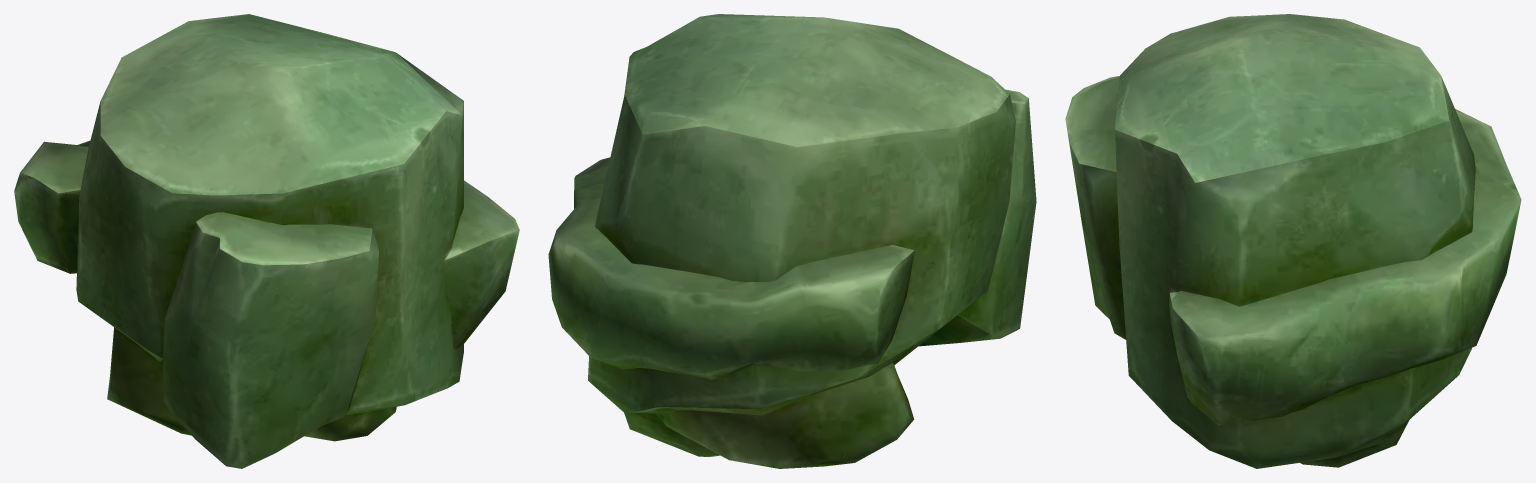
3 views of the same model, side by side, from view 1: azimuth 30°, elevation 25°; view 2: azimuth 150°, elevation 25°; view 3: azimuth 270°, elevation 25° (orthographic). The views are drawn at different scales.
Visible parts, largest first — view 1: SM_Adamantite_Ore_Small_01_LOD0; view 2: SM_Adamantite_Ore_Small_01_LOD0; view 3: SM_Adamantite_Ore_Small_01_LOD0.
Boxes of the visible parts, <box> form: SM_Adamantite_Ore_Small_01_LOD0: <box>14,14,519,468</box>; SM_Adamantite_Ore_Small_01_LOD0: <box>548,14,1036,468</box>; SM_Adamantite_Ore_Small_01_LOD0: <box>1065,14,1521,468</box>.
Size of the model in its own units: 0.2491 by 0.2454 by 0.261.
1 material, 1 textured.
